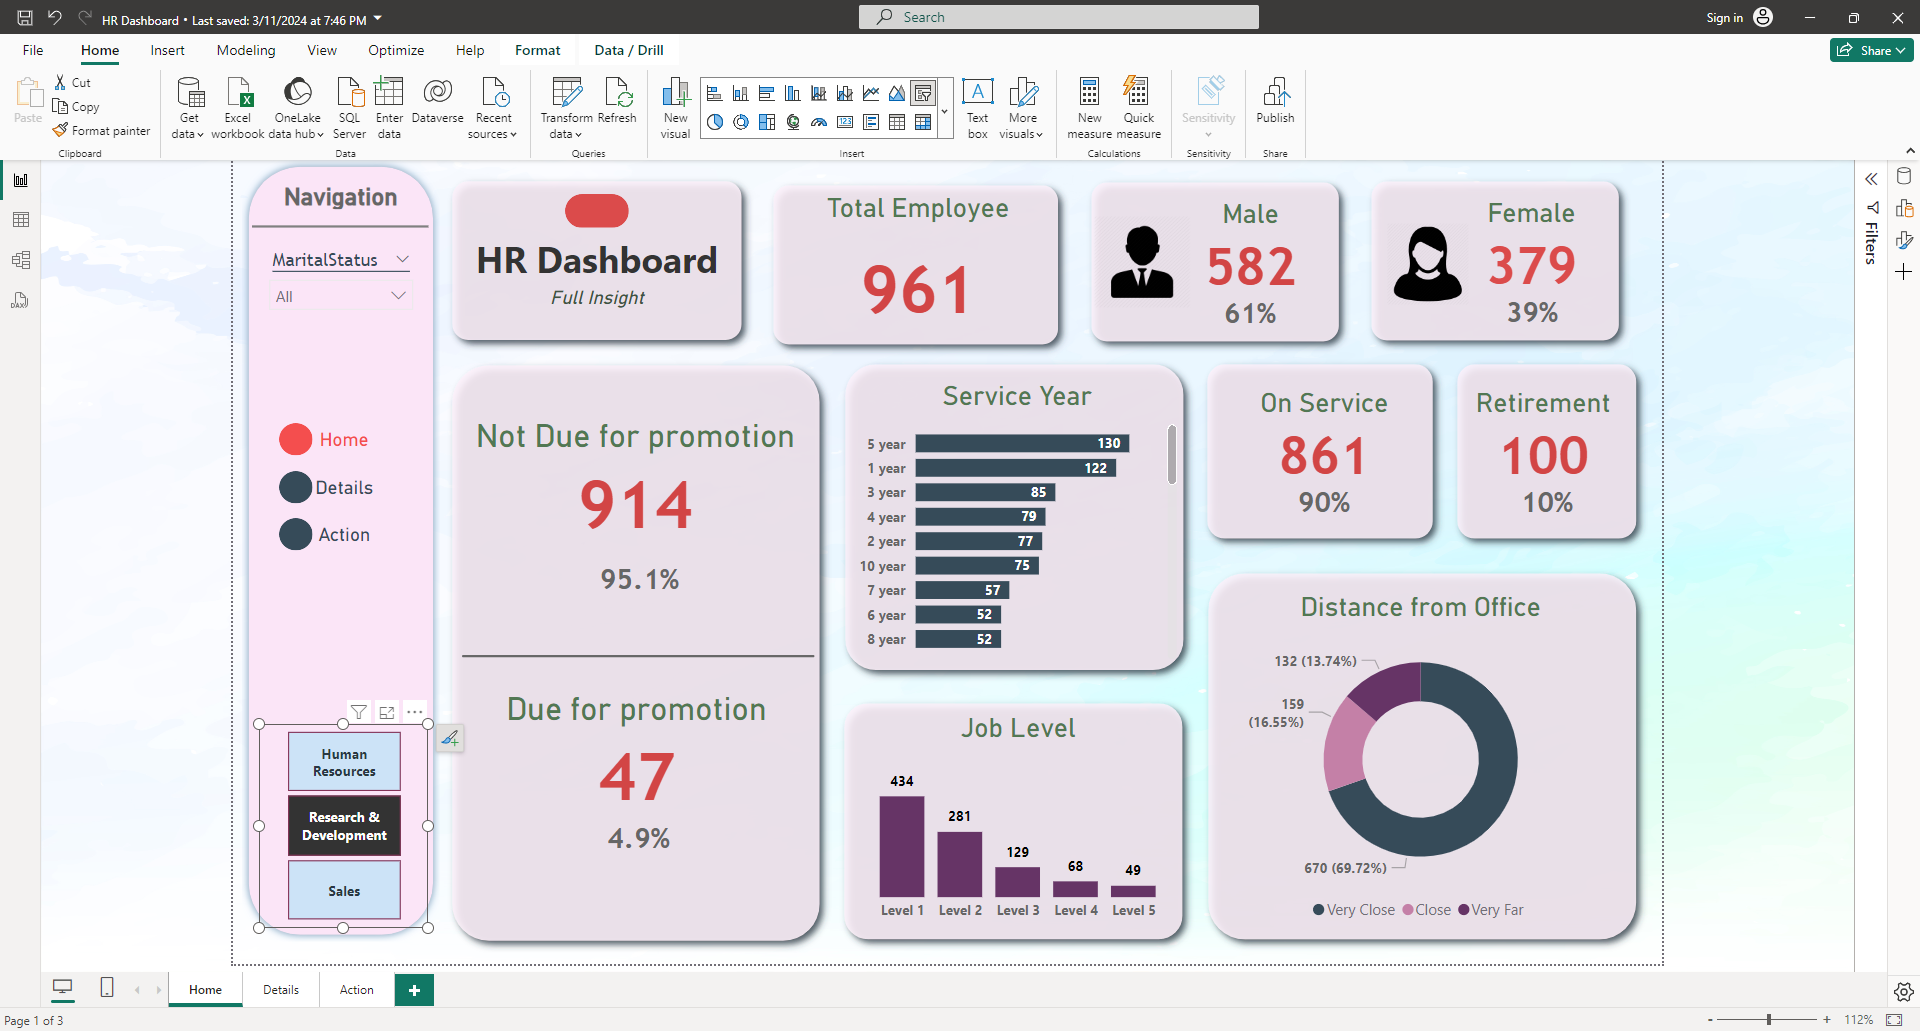

The page's visual inventory and layout, read from the dashboard file:
{"tool":"powerbi","page":{"name":"Home","canvas":[1280,720],"ordinal":0},"visuals":[{"type":"shape","box":[8.3,0,177.1,699.9],"z":0,"group":"g10"},{"type":"shape","box":[185.4,8.3,281.1,164.1],"z":0,"group":"g1"},{"type":"shape","box":[1008.2,8.3,243.7,164.6],"z":0,"group":"g4"},{"type":"shape","box":[757.2,9.4,243.7,164.6],"z":0,"group":"g3"},{"type":"shape","box":[472.8,11.5,277,164.6],"z":0,"group":"g2"},{"type":"shape","box":[537.4,171.8,324.9,295.8],"z":0,"group":"g7"},{"type":"shape","box":[861.3,171.8,223.9,178.1],"z":0,"group":"g8"},{"type":"shape","box":[1085.2,171.8,182.3,178.1],"z":0,"group":"g9"},{"type":"shape","box":[862.4,359.3,405.1,349.9],"z":0,"group":"g5"},{"type":"shape","box":[536.4,476,324.9,233.3],"z":0,"group":"g6"},{"type":"group","id":"g1","title":"Group 2","box":[185.4,8.3,280.2,164.6],"z":1000},{"type":"card","title":"Total Employee","fields":{"Values":["HR Analytics Data.Total Emp"]},"box":[485.3,28.2,256.2,138.5],"z":1000,"group":"g2"},{"type":"card","title":"Female","fields":{"Values":["HR Analytics Data.Total female_Emp"]},"box":[1092.6,33.3,140.6,89.6],"z":1000,"group":"g4"},{"type":"card","title":"Male","fields":{"Values":["HR Analytics Data.Total Male_Emp"]},"box":[840.5,34.4,140.6,89.6],"z":1000,"group":"g3"},{"type":"textbox","box":[197.4,60.8,257.9,55.5],"z":1000,"group":"g1"},{"type":"barChart","title":"Service Year","fields":{"Category":["HR Analytics Data.Year At Company"],"Y":["HR Analytics Data.Total Emp"]},"box":[554.1,196.8,295.8,255.2],"z":1000,"group":"g7"},{"type":"card","title":"On Service","fields":{"Values":["HR Analytics Data.On_Service"]},"box":[907.1,203,140.6,89.6],"z":1000,"group":"g8"},{"type":"card","title":"Retirement","fields":{"Values":["HR Analytics Data.retreanched"]},"box":[1098.7,203,148.9,89.6],"z":1000,"group":"g9"},{"type":"donutChart","title":"Distance from Office","fields":{"Category":["HR Analytics Data.Distance from Office"],"Y":["HR Analytics Data.Total Emp"]},"box":[890.4,385.9,346.9,304.1],"z":1000,"group":"g5"},{"type":"columnChart","title":"Job Level","fields":{"Category":["HR Analytics Data.Job_Level"],"Y":["HR Analytics Data.Total Emp"]},"box":[553.1,494.7,300,195.8],"z":1000,"group":"g6"},{"type":"slicer","fields":{"Values":["HR Analytics Data.Department"]},"box":[23.9,505.1,151,182.3],"z":1000,"group":"g10"},{"type":"group","id":"g2","title":"Group 3","box":[472.8,11.5,277,164.6],"z":2000},{"type":"shape","box":[17.7,50,158.3,18.7],"z":2000,"group":"g10"},{"type":"image","box":[1028,50,84.4,86.4],"z":2000,"group":"g4"},{"type":"textbox","box":[197.4,108.2,257.9,28.7],"z":2000,"group":"g1"},{"type":"card","title":"Total Employee","fields":{"Values":["HR Analytics Data.%Male"]},"box":[848.9,116.7,123.9,41.7],"z":2000,"group":"g3"},{"type":"card","title":"Total Employee","fields":{"Values":["HR Analytics Data.%OnServic"]},"box":[915.5,285.3,123.9,41.7],"z":2000,"group":"g8"},{"type":"card","title":"Total Employee","fields":{"Values":["HR Analytics Data.%retreanched"]},"box":[1114.4,285.3,123.9,41.7],"z":2000,"group":"g9"},{"type":"shape","box":[185.4,172.9,351,537.4],"z":2500},{"type":"shape","box":[297.7,30.3,57.3,30.4],"z":3000,"group":"g1"},{"type":"image","box":[765.5,44.8,96.9,92.7],"z":3000,"group":"g3"},{"type":"card","title":"Total Employee","fields":{"Values":["HR Analytics Data.%Female"]},"box":[1100.9,115.6,123.9,41.7],"z":3000,"group":"g4"},{"type":"actionButton","box":[34.3,230.2,131.2,39.6],"z":3000,"group":"g10"},{"type":"card","title":"Not Due  for promotion","fields":{"Values":["HR Analytics Data.Not_Due Promotion"]},"box":[210.4,230.4,299.7,115.2],"z":3000},{"type":"group","id":"g3","title":"Group 4","box":[757.2,9.4,243.7,164.6],"z":4000},{"type":"actionButton","box":[34.3,272.9,131.2,39.6],"z":4000,"group":"g10"},{"type":"actionButton","box":[34.3,315.6,131.2,39.6],"z":5000,"group":"g10"},{"type":"card","title":"Due  for promotion","fields":{"Values":["HR Analytics Data.Due_Promotion"]},"box":[172.9,474.9,377,112.5],"z":5000},{"type":"group","id":"g4","title":"Group 5","box":[1008.2,8.3,243.7,164.6],"z":6000},{"type":"shape","box":[41.6,235.4,30.2,29.2],"z":6000,"group":"g10"},{"type":"shape","box":[41.6,278.1,30.2,29.2],"z":7000,"group":"g10"},{"type":"card","title":"Total Employee","fields":{"Values":["HR Analytics Data.%Not_Due"]},"box":[175,341.6,379.1,68.7],"z":7000},{"type":"shape","box":[41.6,320.8,30.2,29.2],"z":8000,"group":"g10"},{"type":"card","title":"Total Employee","fields":{"Values":["HR Analytics Data.%Due"]},"box":[174.1,572.9,379.1,68.7],"z":8000},{"type":"shape","box":[205.2,437.4,315.6,14.6],"z":9000},{"type":"group","id":"g5","title":"Group 6","box":[862.4,359.3,405.1,349.9],"z":10000},{"type":"group","id":"g6","title":"Group 7","box":[536.4,476,324.9,233.3],"z":11000},{"type":"group","id":"g7","title":"Group 8","box":[537.4,171.8,324.9,295.8],"z":12000},{"type":"group","id":"g8","title":"Group 9","box":[861.3,171.8,223.9,178.1],"z":13000},{"type":"group","id":"g9","title":"Group 10","box":[1085.2,171.8,182.3,178.1],"z":14000},{"type":"group","id":"g10","title":"Group 11","box":[8.3,0,177.1,699.9],"z":15000},{"type":"slicer","fields":{"Values":["HR Analytics Data.MaritalStatus"]},"box":[22.7,75.3,148.5,60.9],"z":16000}]}

Visuals, with their boxes on the page's 1280x720 design canvas (x1, y1, x2, y2). These are canvas units, not pixel positions in the 1920x1031 screenshot, which may show the page scaled, cropped or inside an application window:
shape: l=8, t=0, r=185, b=700
shape: l=185, t=8, r=466, b=172
shape: l=1008, t=8, r=1252, b=173
shape: l=757, t=9, r=1001, b=174
shape: l=473, t=12, r=750, b=176
shape: l=537, t=172, r=862, b=468
shape: l=861, t=172, r=1085, b=350
shape: l=1085, t=172, r=1268, b=350
shape: l=862, t=359, r=1268, b=709
shape: l=536, t=476, r=861, b=709
"Group 2" group: l=185, t=8, r=466, b=173
"Total Employee" card: l=485, t=28, r=742, b=167
"Female" card: l=1093, t=33, r=1233, b=123
"Male" card: l=840, t=34, r=981, b=124
textbox: l=197, t=61, r=455, b=116
"Service Year" barChart: l=554, t=197, r=850, b=452
"On Service" card: l=907, t=203, r=1048, b=293
"Retirement" card: l=1099, t=203, r=1248, b=293
"Distance from Office" donutChart: l=890, t=386, r=1237, b=690
"Job Level" columnChart: l=553, t=495, r=853, b=690
slicer - HR Analytics Data.Department: l=24, t=505, r=175, b=687
"Group 3" group: l=473, t=12, r=750, b=176
shape: l=18, t=50, r=176, b=69
image: l=1028, t=50, r=1112, b=136
textbox: l=197, t=108, r=455, b=137
"Total Employee" card: l=849, t=117, r=973, b=158
"Total Employee" card: l=916, t=285, r=1039, b=327
"Total Employee" card: l=1114, t=285, r=1238, b=327
shape: l=185, t=173, r=536, b=710
shape: l=298, t=30, r=355, b=61
image: l=766, t=45, r=862, b=138
"Total Employee" card: l=1101, t=116, r=1225, b=157
actionButton: l=34, t=230, r=166, b=270
"Not Due  for promotion" card: l=210, t=230, r=510, b=346
"Group 4" group: l=757, t=9, r=1001, b=174
actionButton: l=34, t=273, r=166, b=312
actionButton: l=34, t=316, r=166, b=355
"Due  for promotion" card: l=173, t=475, r=550, b=587
"Group 5" group: l=1008, t=8, r=1252, b=173
shape: l=42, t=235, r=72, b=265
shape: l=42, t=278, r=72, b=307
"Total Employee" card: l=175, t=342, r=554, b=410
shape: l=42, t=321, r=72, b=350
"Total Employee" card: l=174, t=573, r=553, b=642
shape: l=205, t=437, r=521, b=452
"Group 6" group: l=862, t=359, r=1268, b=709
"Group 7" group: l=536, t=476, r=861, b=709
"Group 8" group: l=537, t=172, r=862, b=468
"Group 9" group: l=861, t=172, r=1085, b=350
"Group 10" group: l=1085, t=172, r=1268, b=350
"Group 11" group: l=8, t=0, r=185, b=700
slicer - HR Analytics Data.MaritalStatus: l=23, t=75, r=171, b=136
